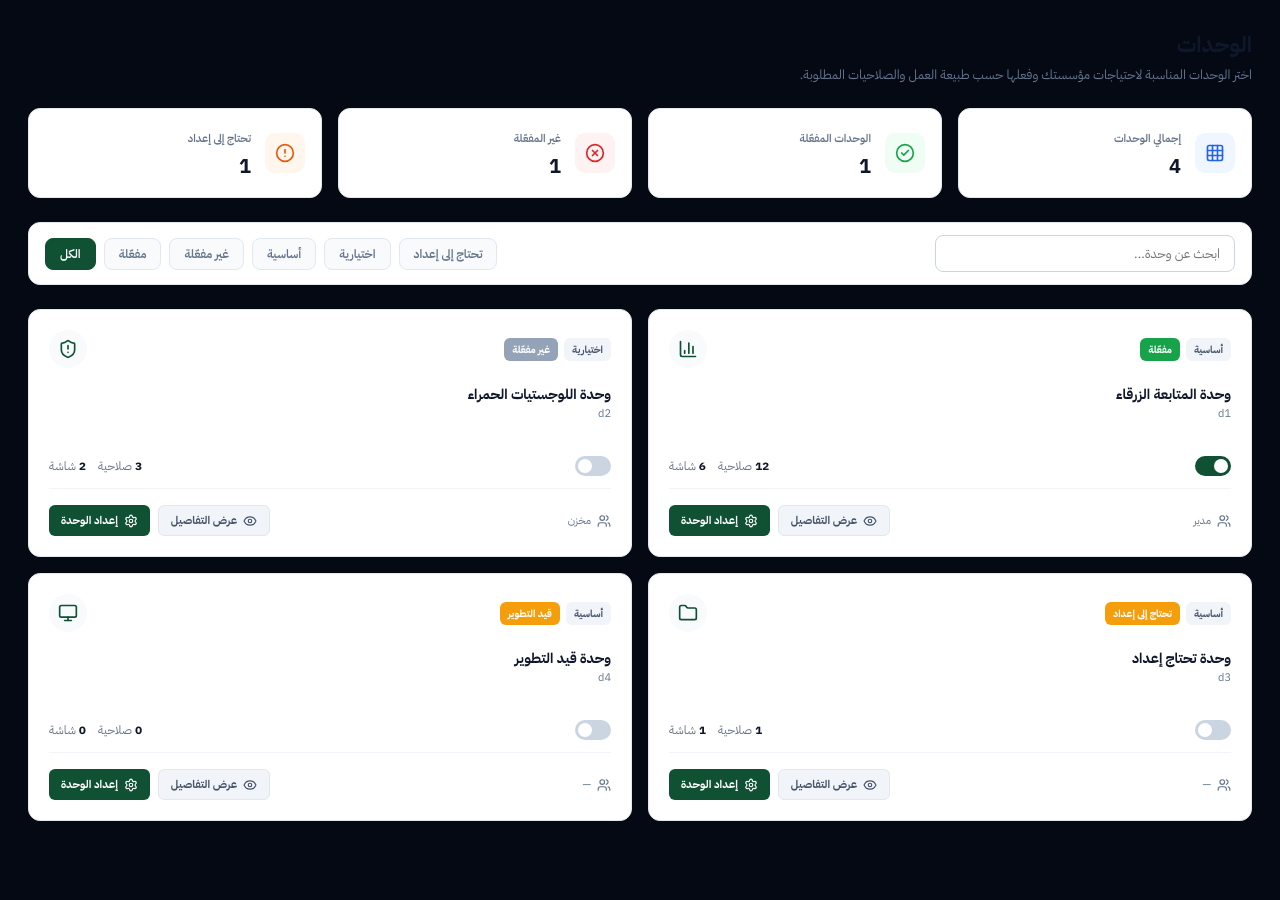
Test case: Units page › filters by tab and search
Expected: the heading "وحدة المتابعة الزرقاء" is shown, x1=1116 y1=384 x2=1231 y2=405
Click the tab "مفعّلة".
click(133, 254)  # box x1=104 y1=238 x2=162 y2=270
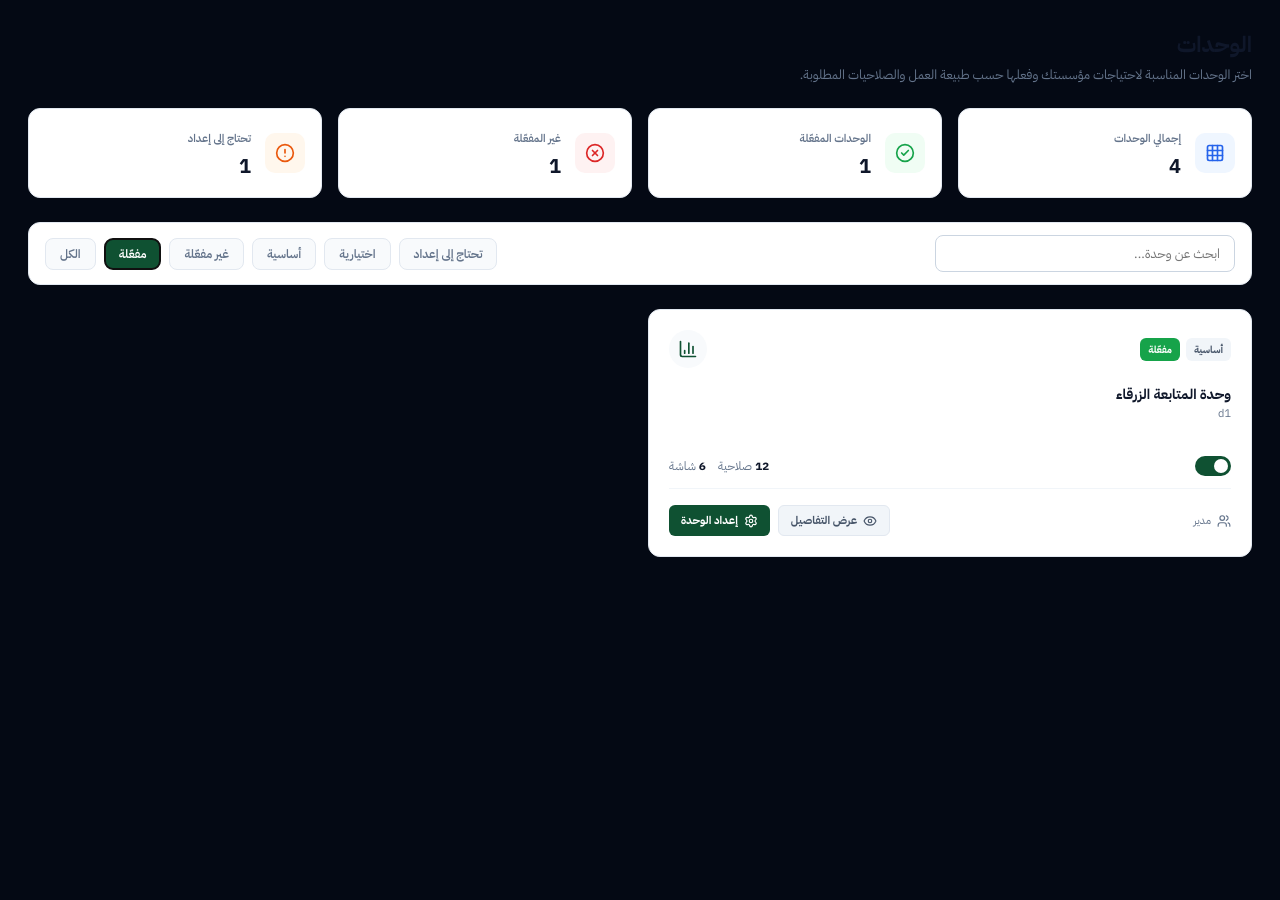
Expected: the heading "وحدة المتابعة الزرقاء" is shown, x1=1116 y1=384 x2=1231 y2=405
Result: the heading "وحدة اللوجستيات الحمراء" is gone
Click the tab "الكل".
click(70, 254)  # box x1=45 y1=238 x2=96 y2=270
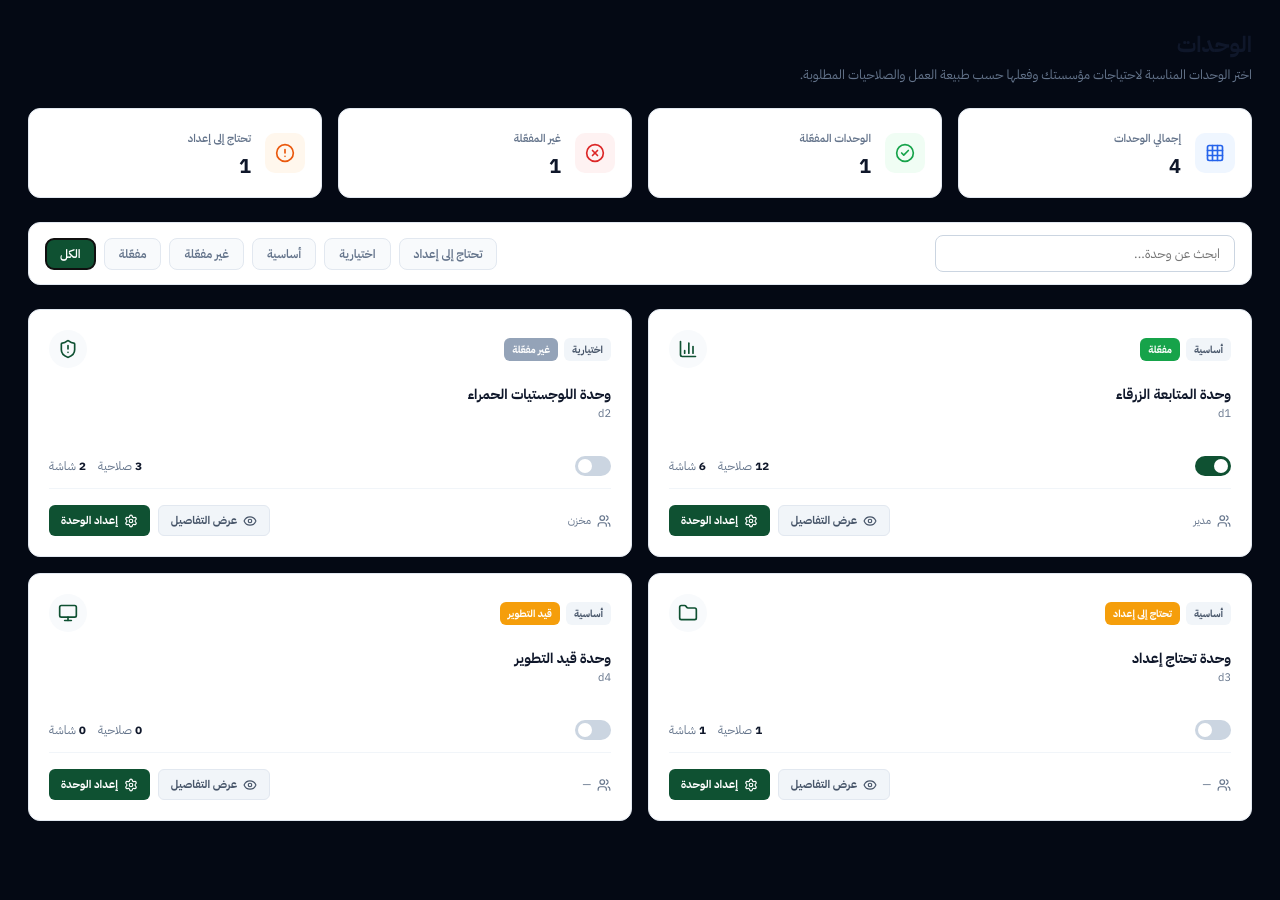
Type "الحمراء" into the search field labelled "ابحث عن وحدة".
click(1085, 254); type("الحمراء")  # box x1=935 y1=235 x2=1235 y2=272
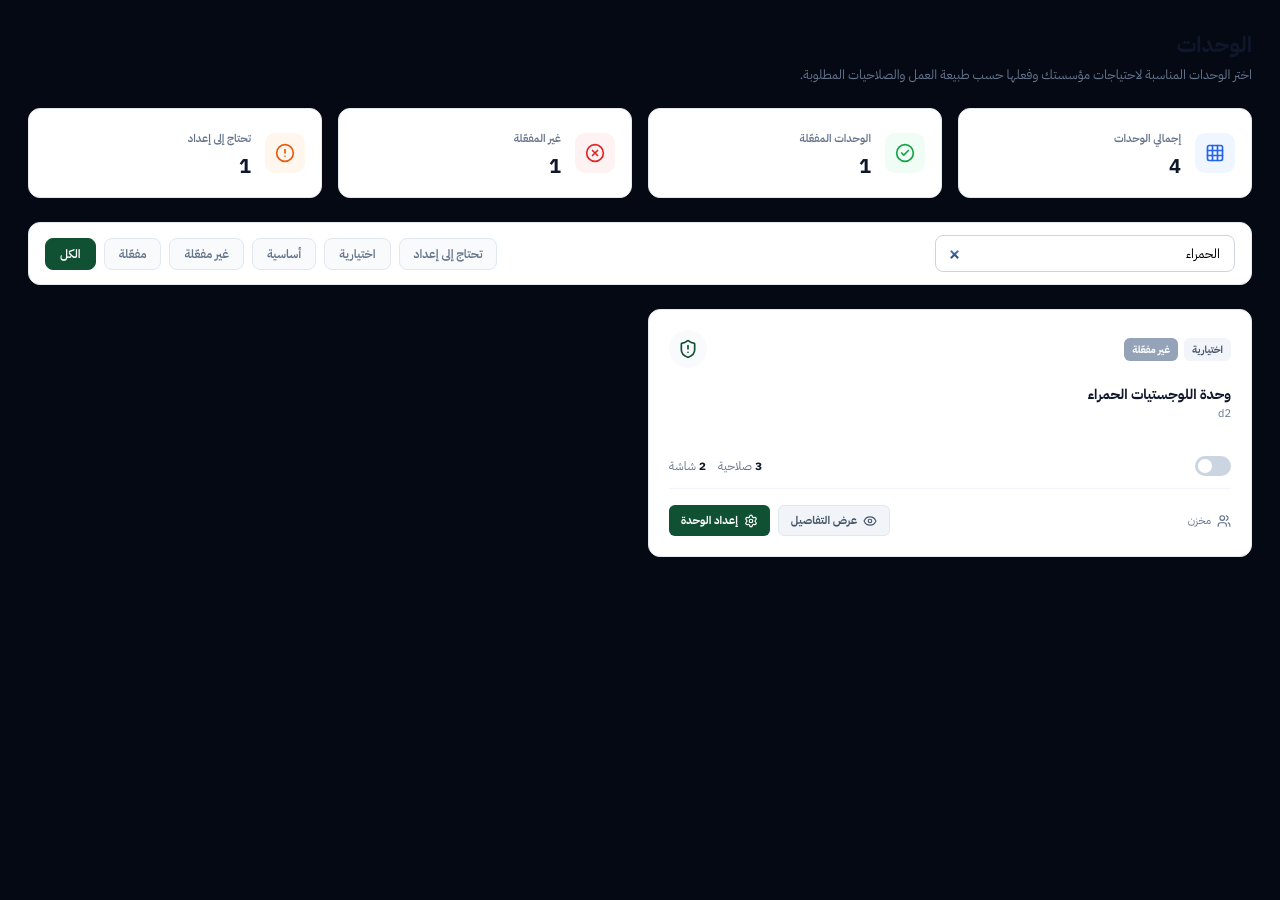
Result: the heading "وحدة اللوجستيات الحمراء" is shown at x1=1088 y1=384 x2=1231 y2=405
Result: the heading "وحدة المتابعة الزرقاء" is gone
